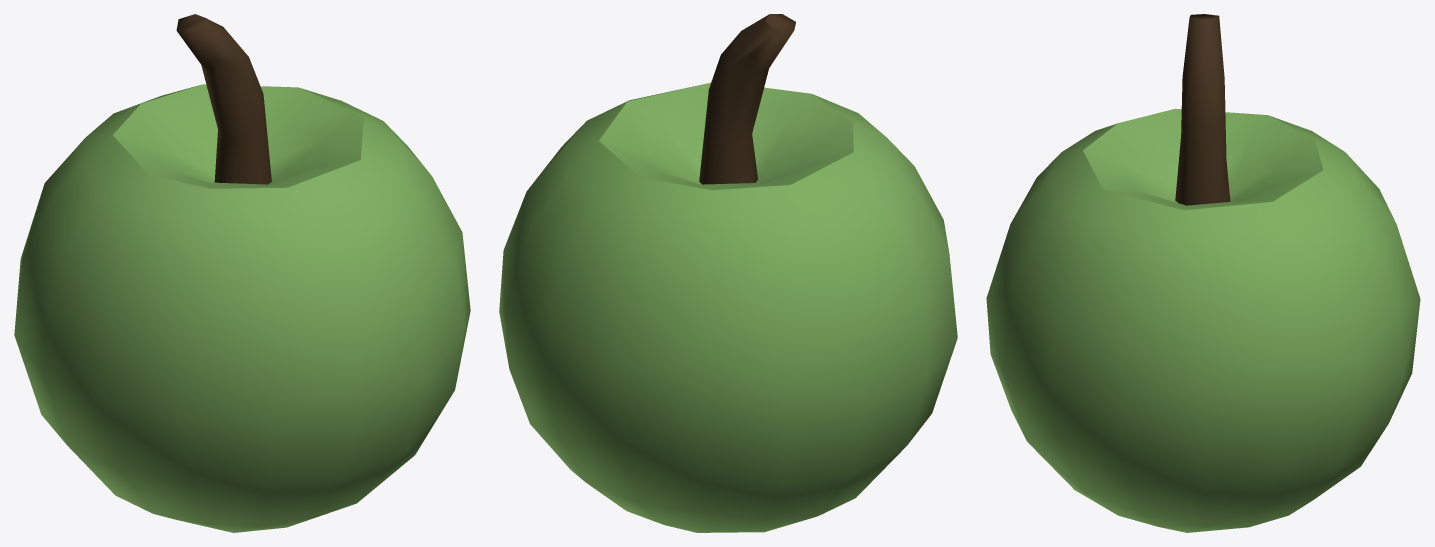
Rendered from greenApple.fbx.
3 views of the same model, side by side, from view 1: azimuth 30°, elevation 25°; view 2: azimuth 150°, elevation 25°; view 3: azimuth 270°, elevation 25° (orthographic). The views are drawn at different scales.
Visible parts, largest first — view 1: apple; view 2: apple; view 3: apple.
Part boxes in pixels (x1,y1,x2,y2): apple: [14, 14, 470, 532]; apple: [499, 14, 957, 532]; apple: [986, 14, 1420, 532].
Bounding box in the file's own units: 751 × 909 × 752.
